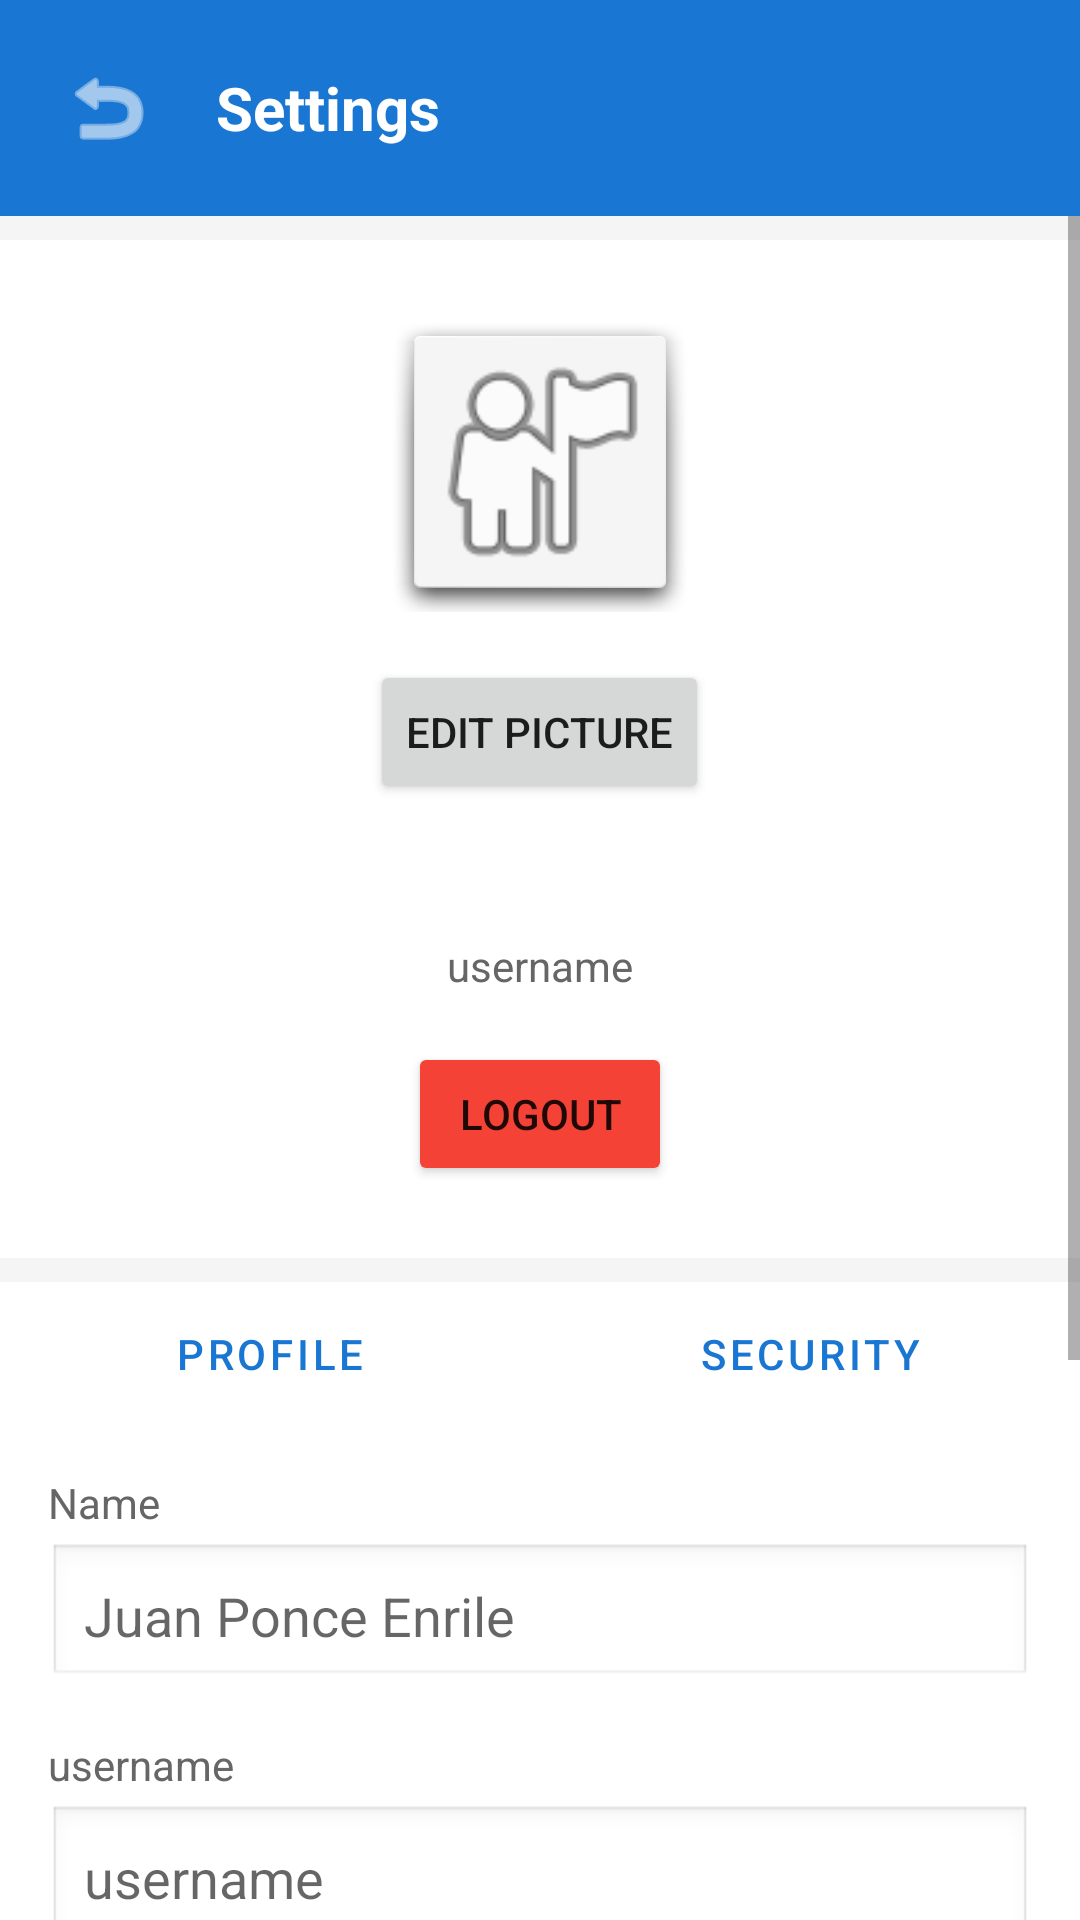

Screen size 1080×1920. Icon name, then its center in pixels as (x,y):
Back: (109,108)
Profile Picture: (540,469)
